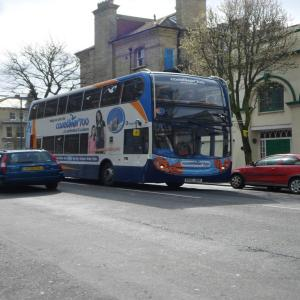Vehicle-registration-plate: (22, 166, 44, 173), (186, 179, 203, 183)
